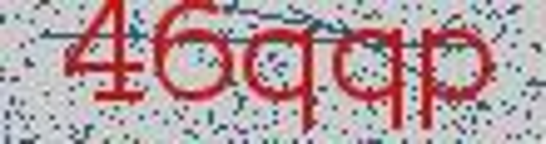4: (59, 1, 146, 121)
6: (150, 2, 239, 111)
p: (415, 19, 500, 141)
q: (242, 22, 325, 144), (328, 19, 410, 138)
